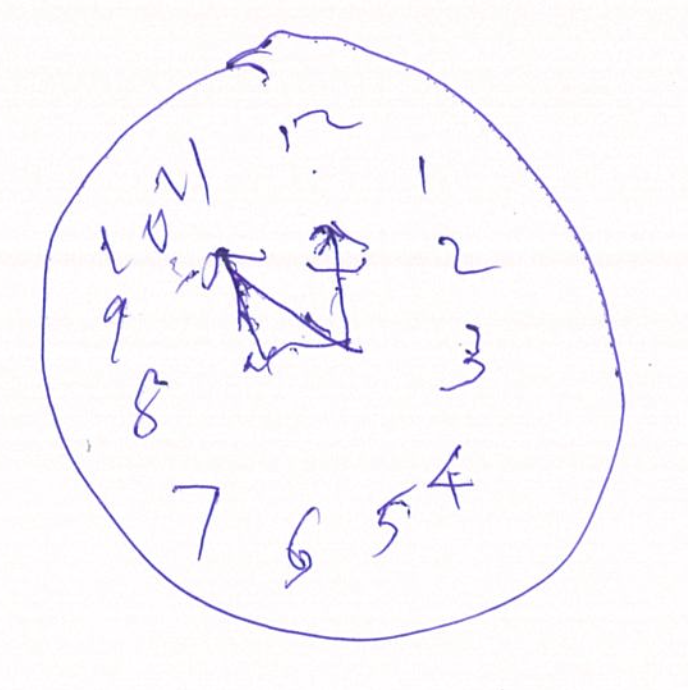1: (414, 155, 436, 200)
10: (95, 208, 172, 279)
11: (151, 134, 215, 214)
12: (270, 106, 366, 156)
2: (433, 231, 504, 279)
3: (434, 317, 487, 401)
4: (425, 443, 476, 514)
5: (369, 492, 415, 565)
6: (281, 496, 323, 591)
7: (166, 474, 220, 565)
8: (130, 367, 171, 446)
9: (98, 291, 130, 366)
contour: (34, 25, 631, 646)
